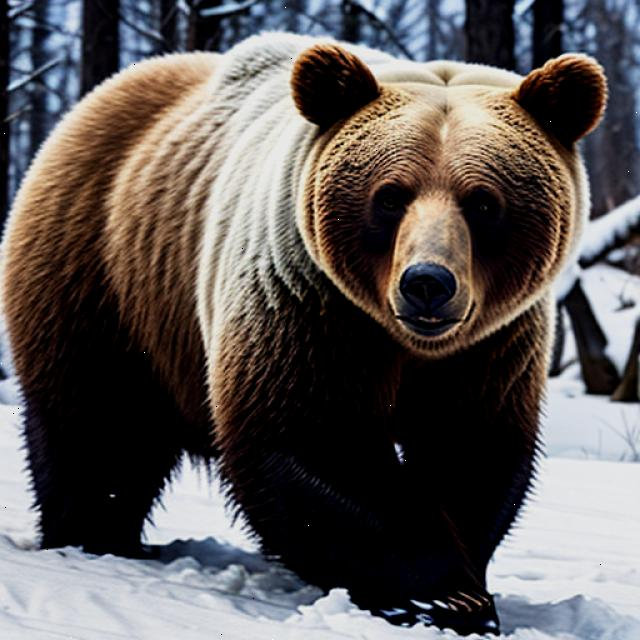bear: (265, 40, 631, 372)
